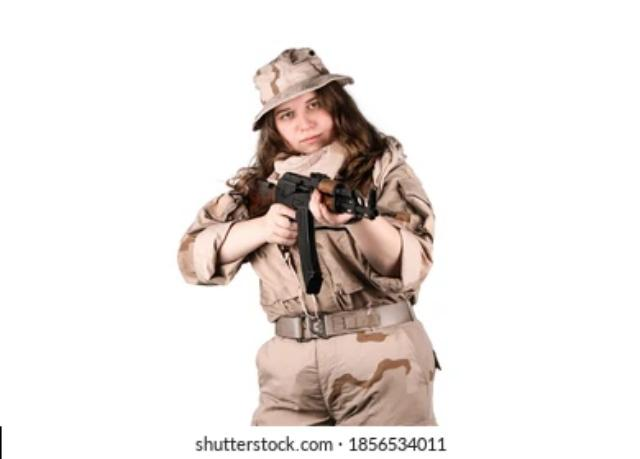other: (177, 46, 441, 423)
